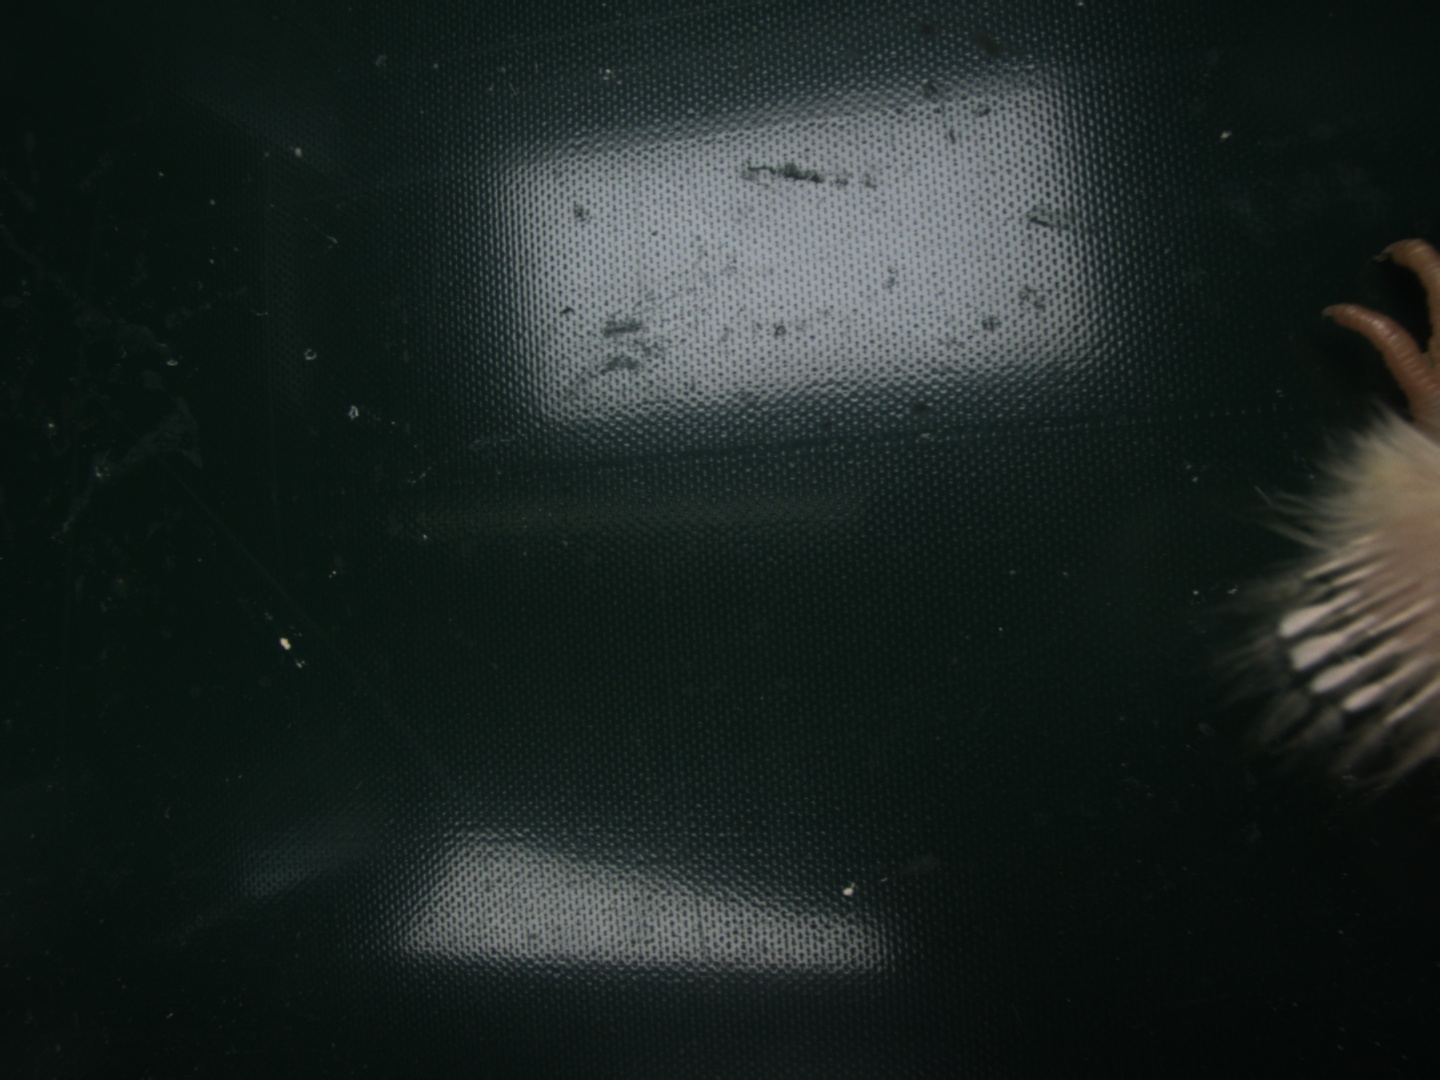female: (1282, 531, 1435, 726)
